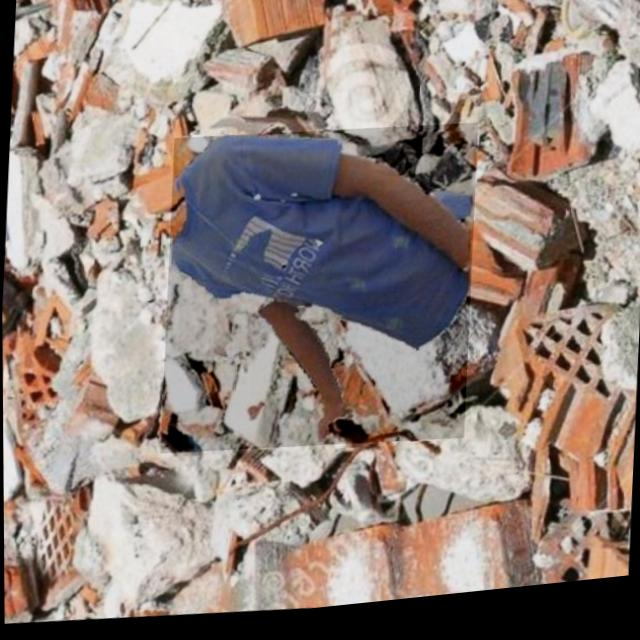Person in Rubble: (158, 117, 480, 472)
